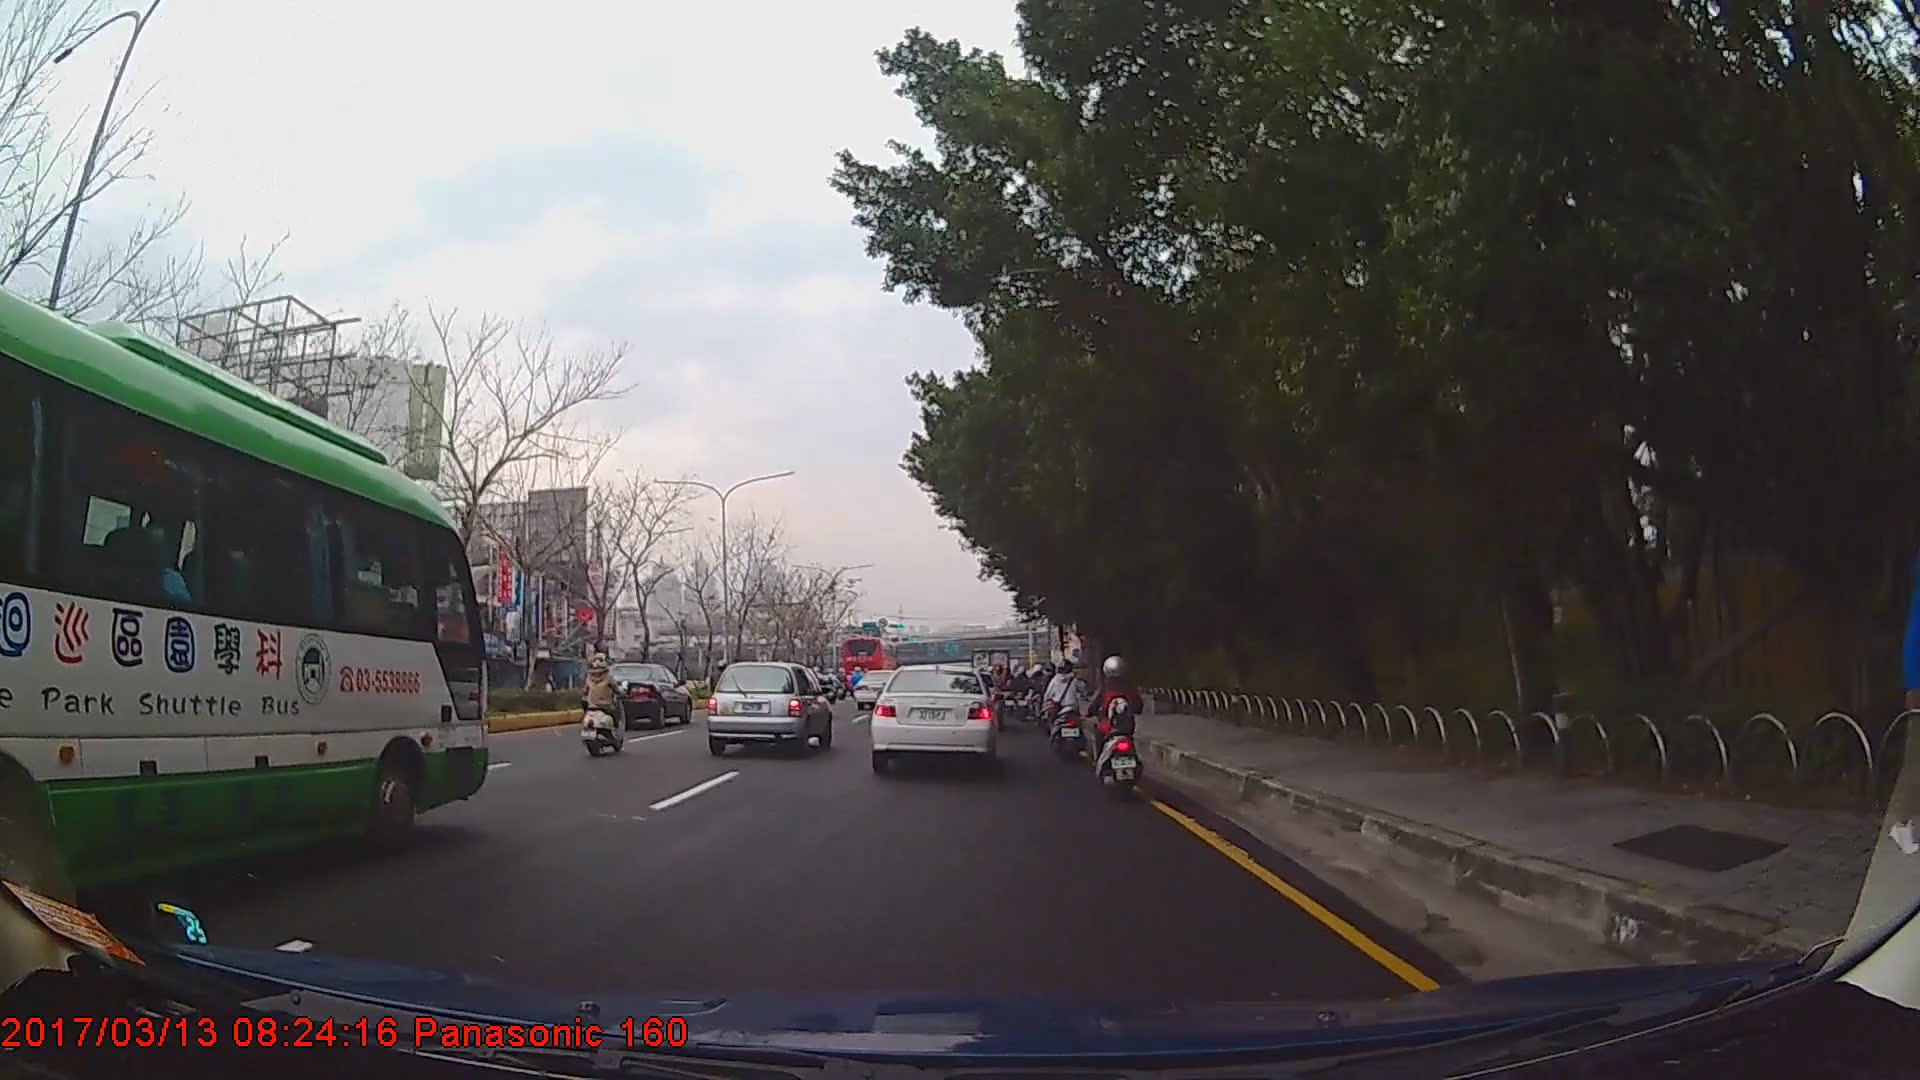pedestrian: (1890, 496, 1920, 862)
rider: (1091, 654, 1149, 795), (1045, 653, 1088, 760), (584, 654, 629, 756), (1039, 662, 1061, 745)
vehicle: (0, 277, 491, 922), (868, 663, 999, 771), (704, 659, 832, 755), (583, 661, 691, 730), (838, 634, 899, 692)
